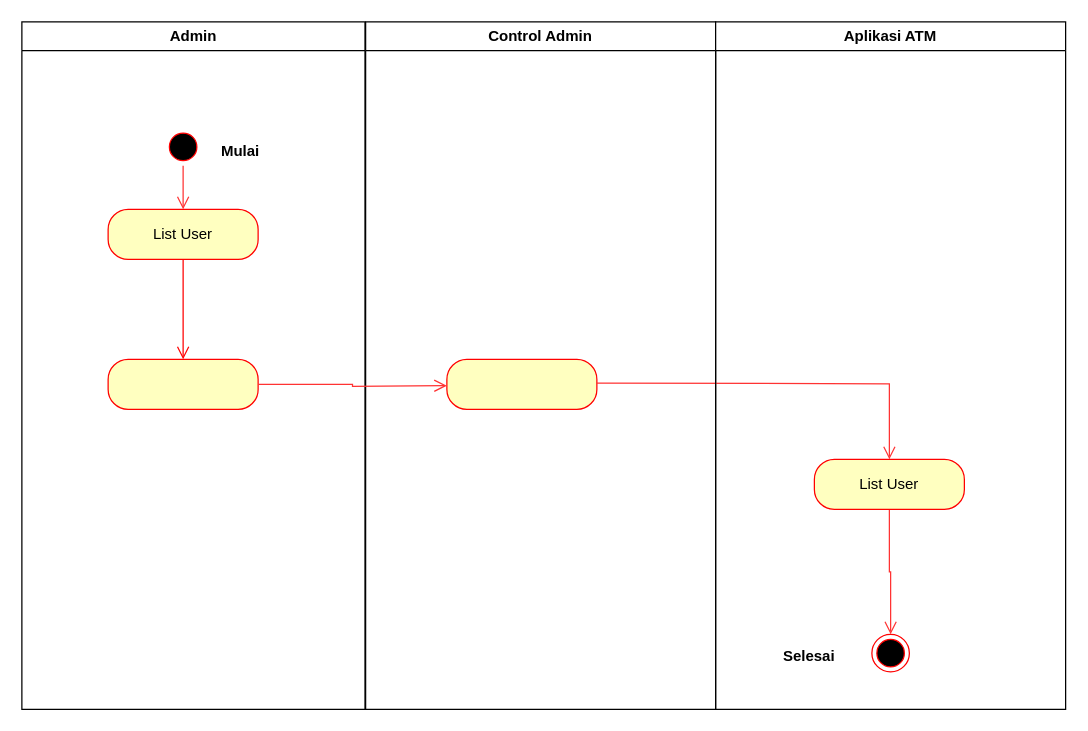
Image size: 1088x731. Some labels were removed from this diagram. The centre of each missing label's shape, as x and y in pixels:
"Urutkan berdasarkan" belongs at point 182,383.
"view user" belongs at point 521,383.
